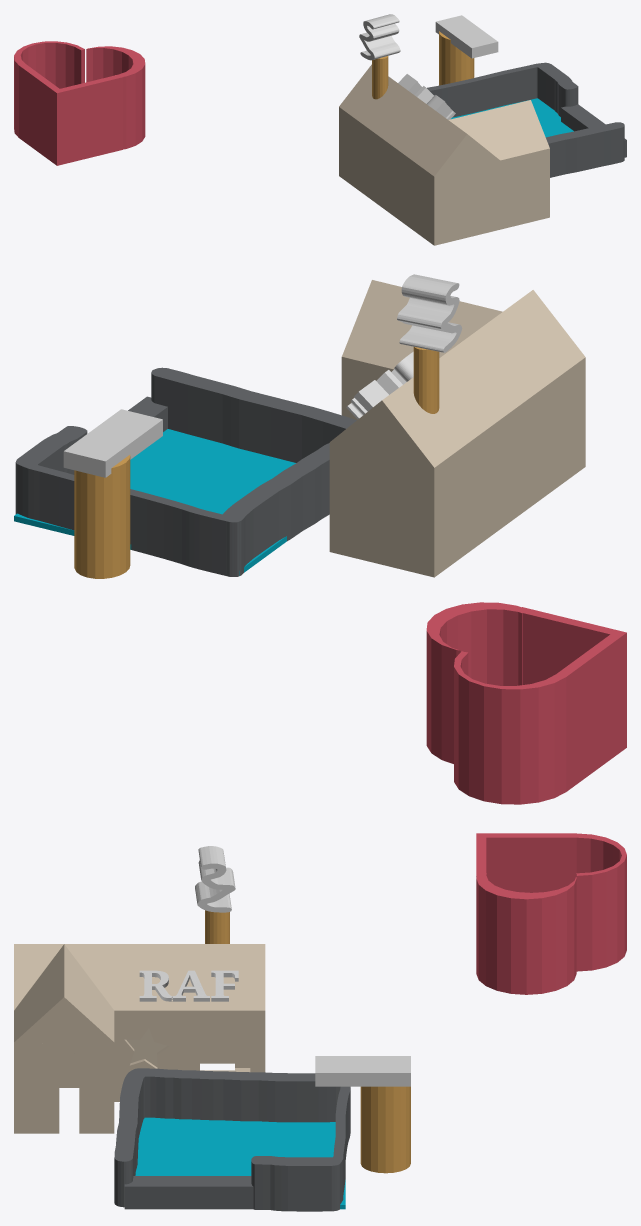
File: raphaelhouse.glb
3 views of the same model, one above another, from view 1: azimuth 30°, elevation 25°; view 2: azimuth 150°, elevation 25°; view 3: azimuth 270°, elevation 25° (orthographic). The views are drawn at different scales.
Parts seen in each view (by area): view 1: Mesh_Mesh_head_geo.001_lambert2SG.001; view 2: Mesh_Mesh_head_geo.001_lambert2SG.001; view 3: Mesh_Mesh_head_geo.001_lambert2SG.001.
Boxes of the visible parts, x1,y1,x2,y2 form: Mesh_Mesh_head_geo.001_lambert2SG.001: (14,14,626,245); Mesh_Mesh_head_geo.001_lambert2SG.001: (14,274,626,804); Mesh_Mesh_head_geo.001_lambert2SG.001: (14,833,626,1211).
Size of the model in its own units: 133 by 48.16 by 122.
